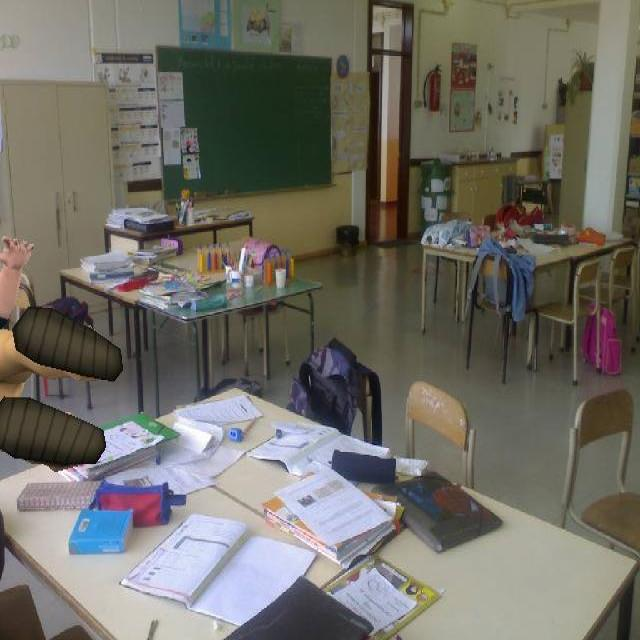obstacle: (0, 230, 127, 474)
